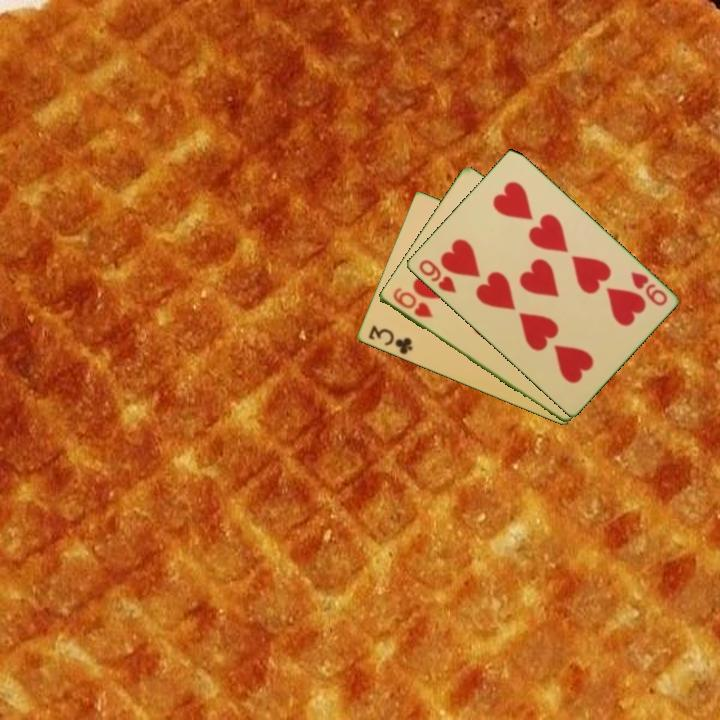3c: (364, 322, 415, 358)
6h: (389, 284, 435, 321)
9h: (627, 268, 670, 309), (415, 256, 459, 296)
